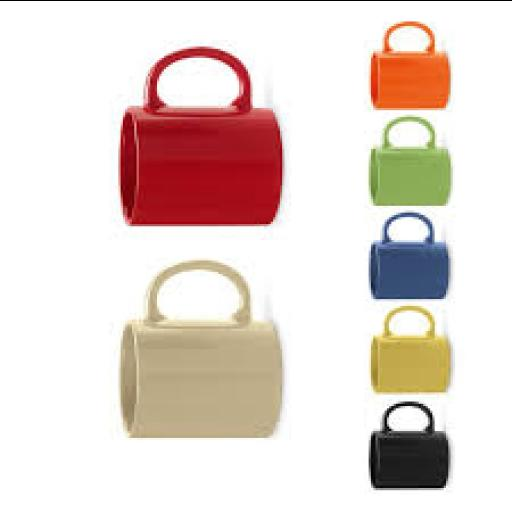red mug: (121, 48, 280, 225)
